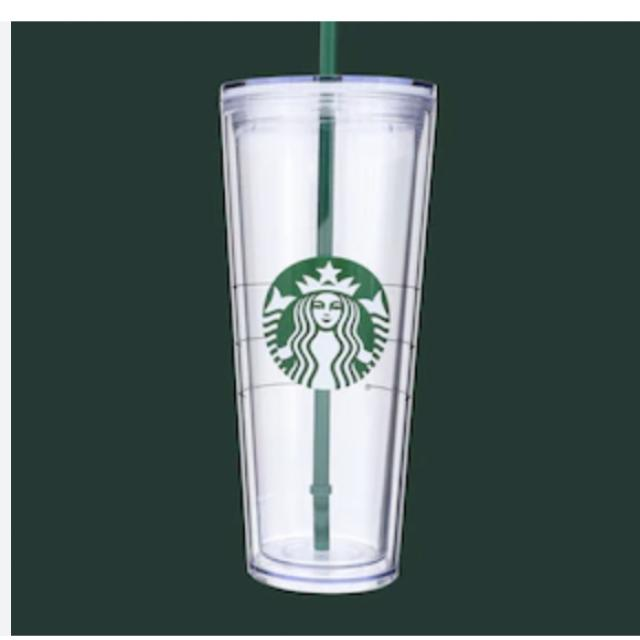recyclable: (206, 52, 466, 612)
